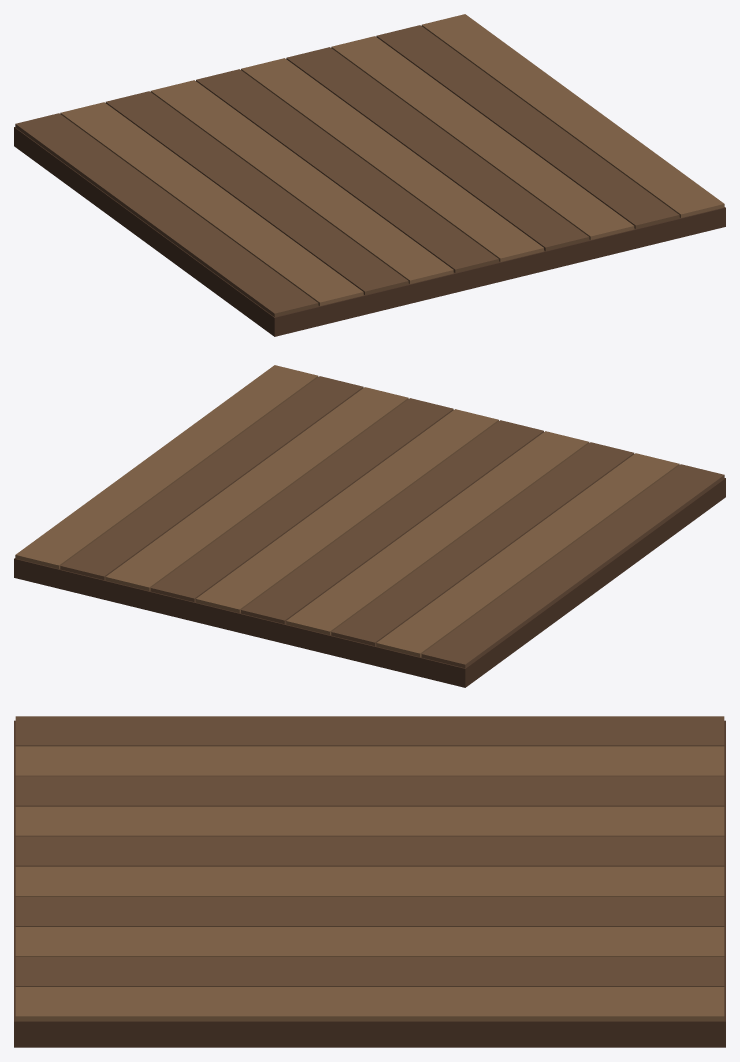
The model's file is yx_floor_darkwood.glb.
3 renders of one model, top to bottom at view 1: azimuth 30°, elevation 25°; view 2: azimuth 150°, elevation 25°; view 3: azimuth 270°, elevation 25°, orthographic. The views are drawn at different scales.
Visible parts, largest first — view 1: yx_floor_darkwood; view 2: yx_floor_darkwood; view 3: yx_floor_darkwood.
Boxes of the visible parts, bbox=[...] form: yx_floor_darkwood: bbox=[14, 14, 725, 336]; yx_floor_darkwood: bbox=[14, 365, 725, 687]; yx_floor_darkwood: bbox=[14, 716, 725, 1047].
Size of the model in its own units: 2.5 by 0.12 by 2.5.
